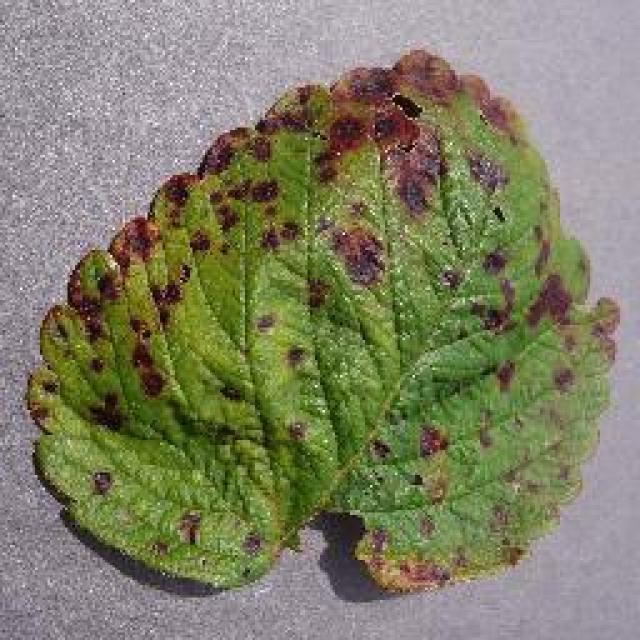Strawberry leaf scorch: (89, 105, 558, 515)
